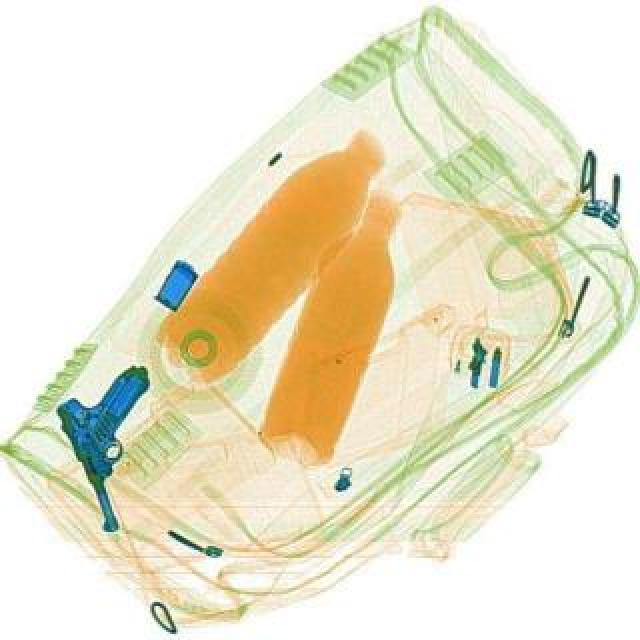gun: (46, 360, 198, 538)
